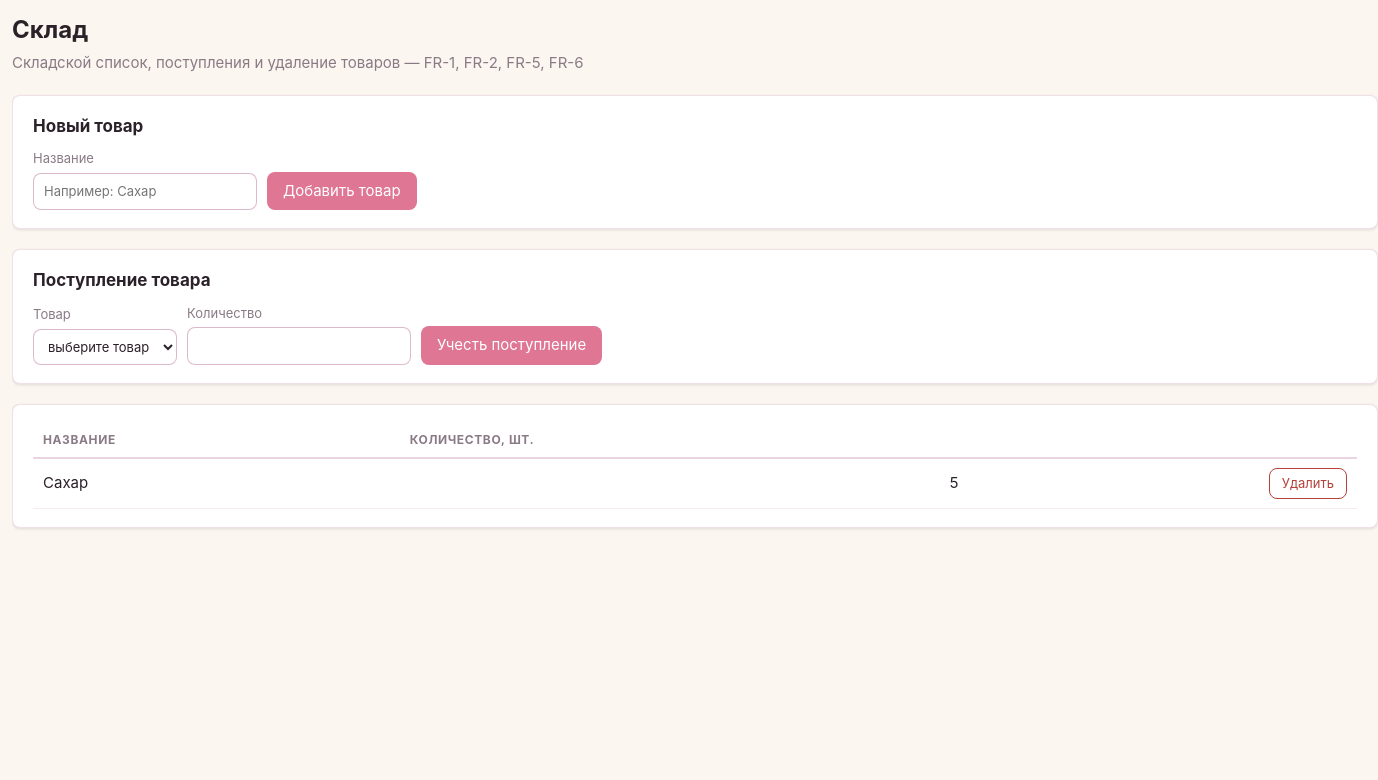
Scenario: ProductsPage › relays a BR error into the banner and keeps the form filled
Type "молоко" into the field labelled "Название" at (145, 191), box x1=33 y1=172 x2=257 y2=210
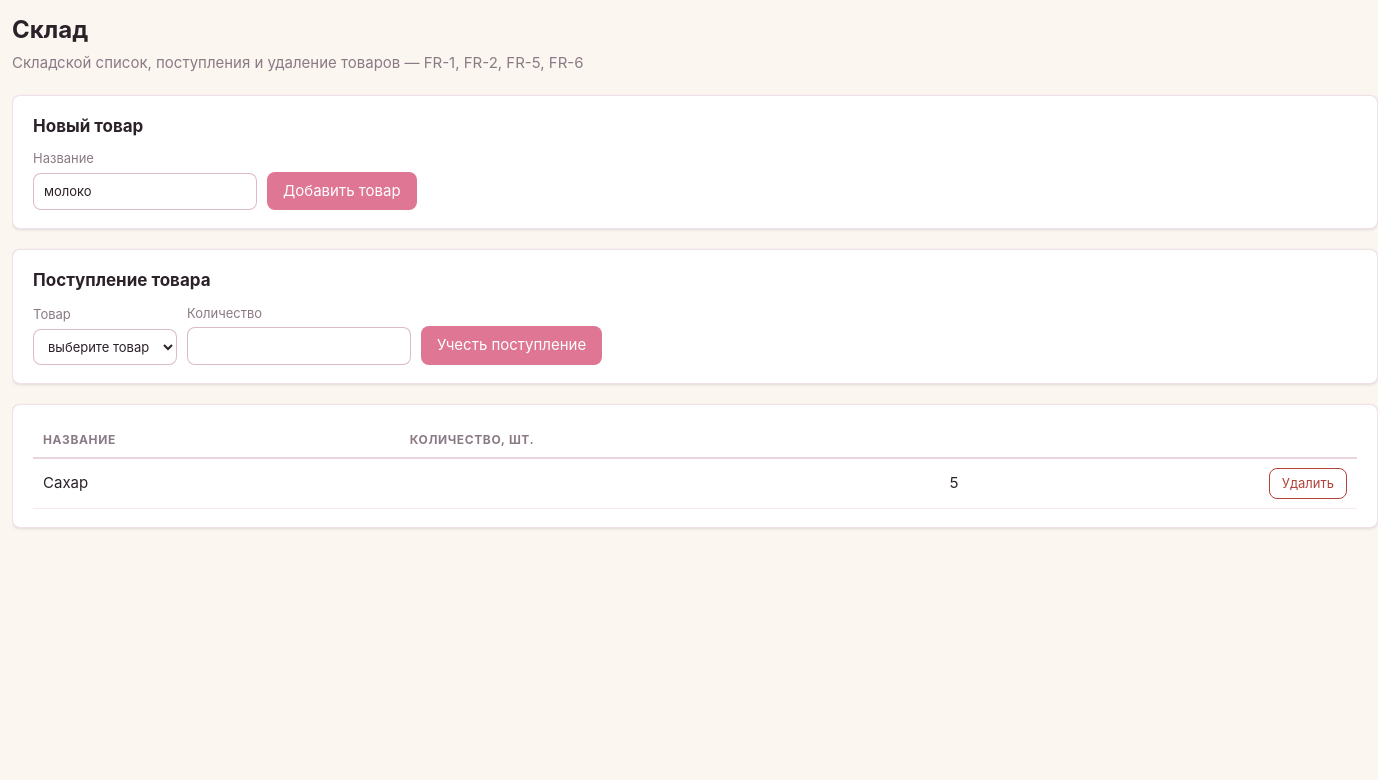
Click the button "Добавить товар" at (342, 191), box x1=267 y1=172 x2=417 y2=210
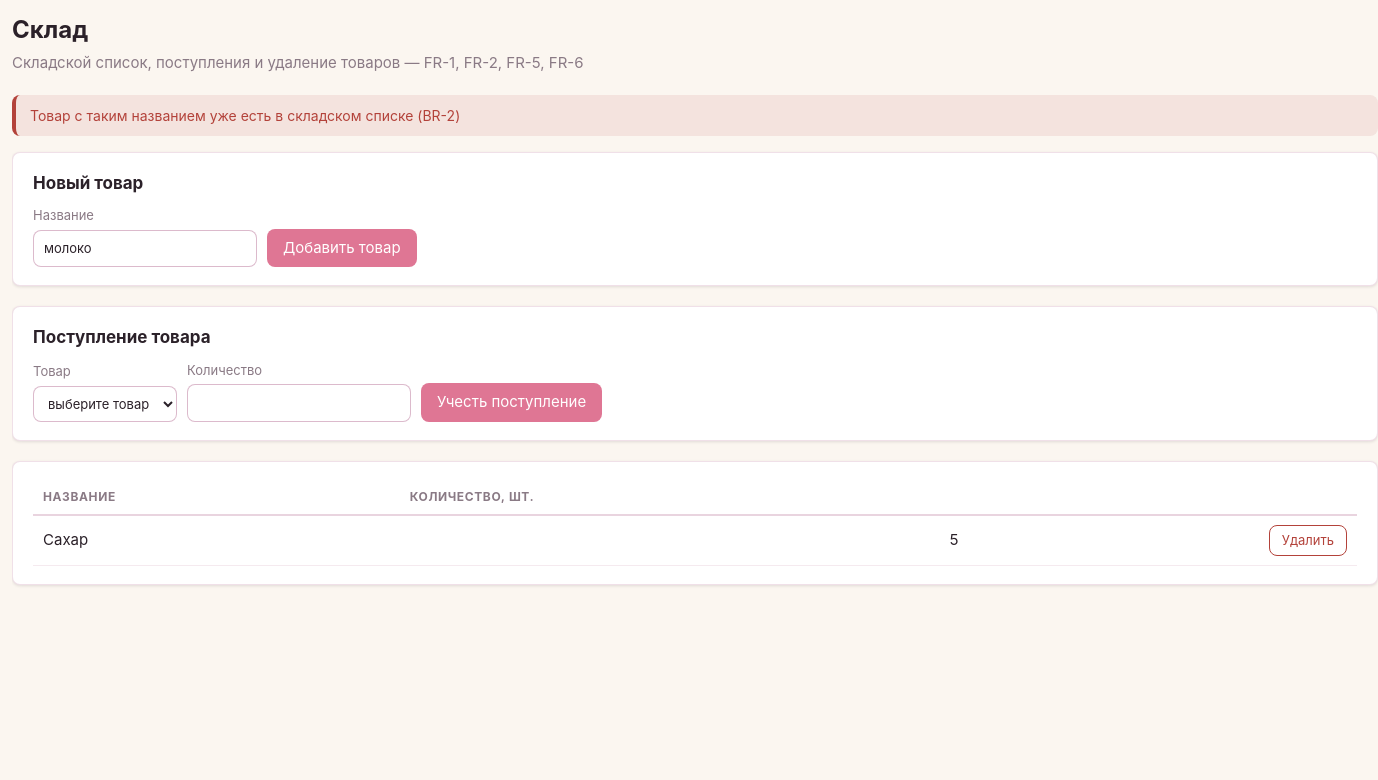
Check: the text "Товар с таким названием уже есть в складском списке (BR-2)" is shown, box x1=12 y1=94 x2=1377 y2=136
